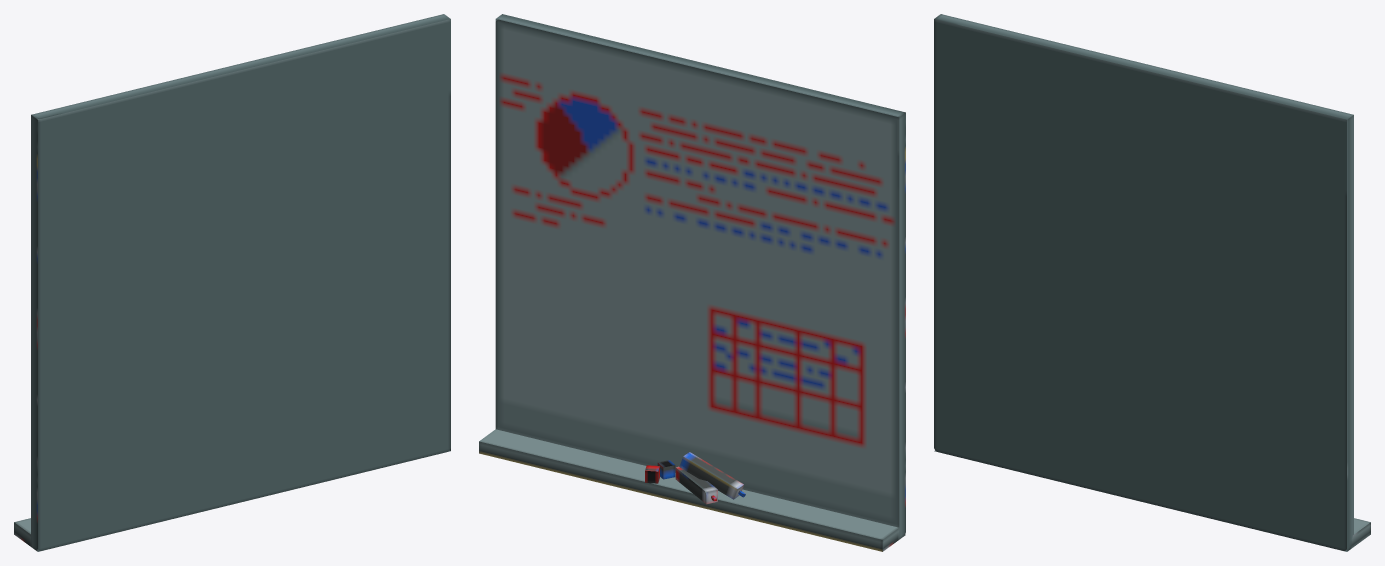
The model's file is Board.fbx.
The picture shows the model from 3 angles, left to right: view 1: azimuth 30°, elevation 25°; view 2: azimuth 150°, elevation 25°; view 3: azimuth 330°, elevation 25°; orthographic projection. The views are drawn at different scales.
Parts seen in each view (by area): view 1: cube; view 2: cube, cube_1, cube_4, cube_2; view 3: cube.
Part boxes in pixels (x1=…): cube: x1=31, y1=14, x2=450, y2=551; cube: x1=495, y1=14, x2=905, y2=539; cube_1: x1=479, y1=429, x2=899, y2=551; cube_4: x1=679, y1=452, x2=743, y2=499; cube_2: x1=675, y1=466, x2=717, y2=504; cube: x1=934, y1=14, x2=1353, y2=551.
Bounding box in the file's own units: 219 × 219 × 29.06.
1 material, 1 textured.
